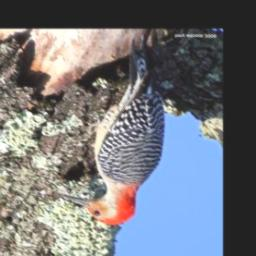Woodpecker: (62, 41, 167, 227)
